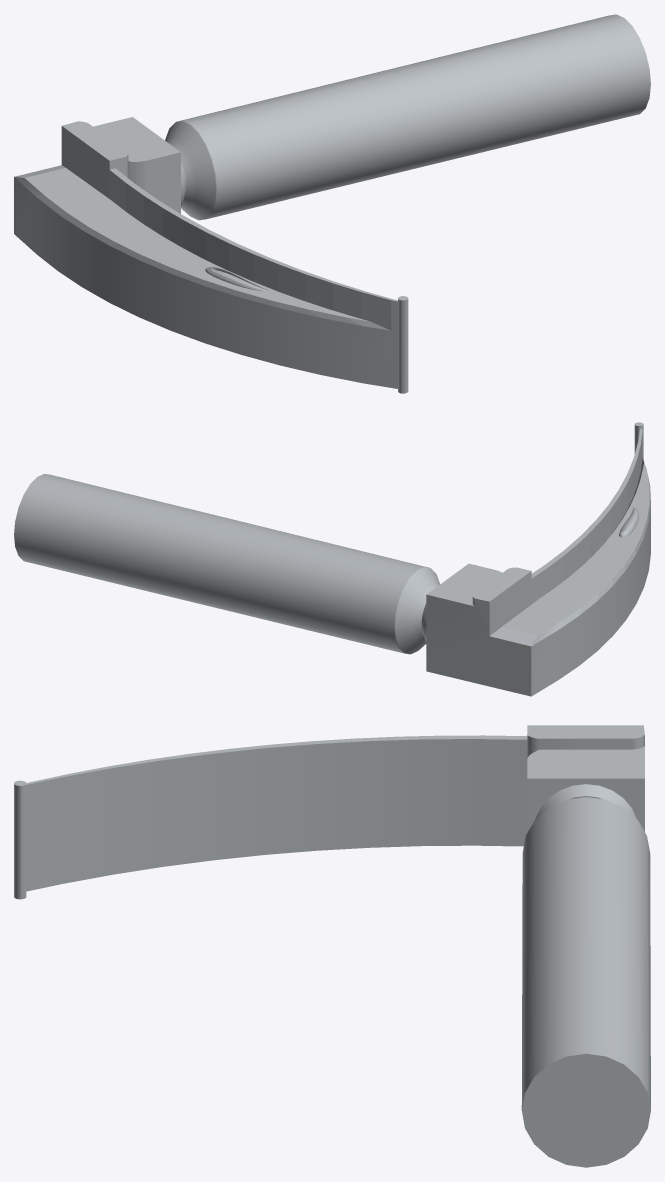
The model's file is BCMM_Laryngoscope.fbx.
The picture shows the model from 3 angles, top to bottom: view 1: azimuth 30°, elevation 25°; view 2: azimuth 150°, elevation 25°; view 3: azimuth 270°, elevation 25°; orthographic projection. The views are drawn at different scales.
Visible parts, largest first — view 1: BCMM_Laryngoscope; view 2: BCMM_Laryngoscope; view 3: BCMM_Laryngoscope.
Boxes of the visible parts, x1=… form: BCMM_Laryngoscope: x1=14, y1=14, x2=650, y2=393; BCMM_Laryngoscope: x1=14, y1=422, x2=650, y2=696; BCMM_Laryngoscope: x1=14, y1=725, x2=650, y2=1167.
Size of what is drawn, in the model's own units: 25 by 4.04 by 19.13.
